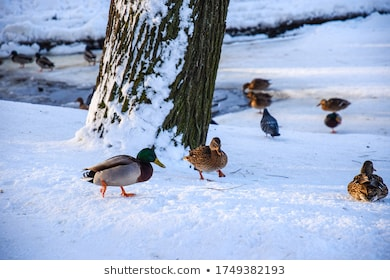duck: (68, 145, 173, 206), (183, 140, 252, 186), (342, 152, 387, 211)
